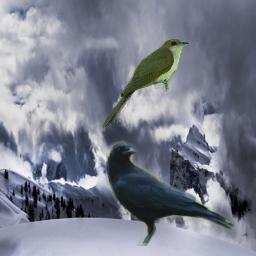Crow: (106, 140, 236, 246)
Cuckoo: (102, 38, 190, 129)
